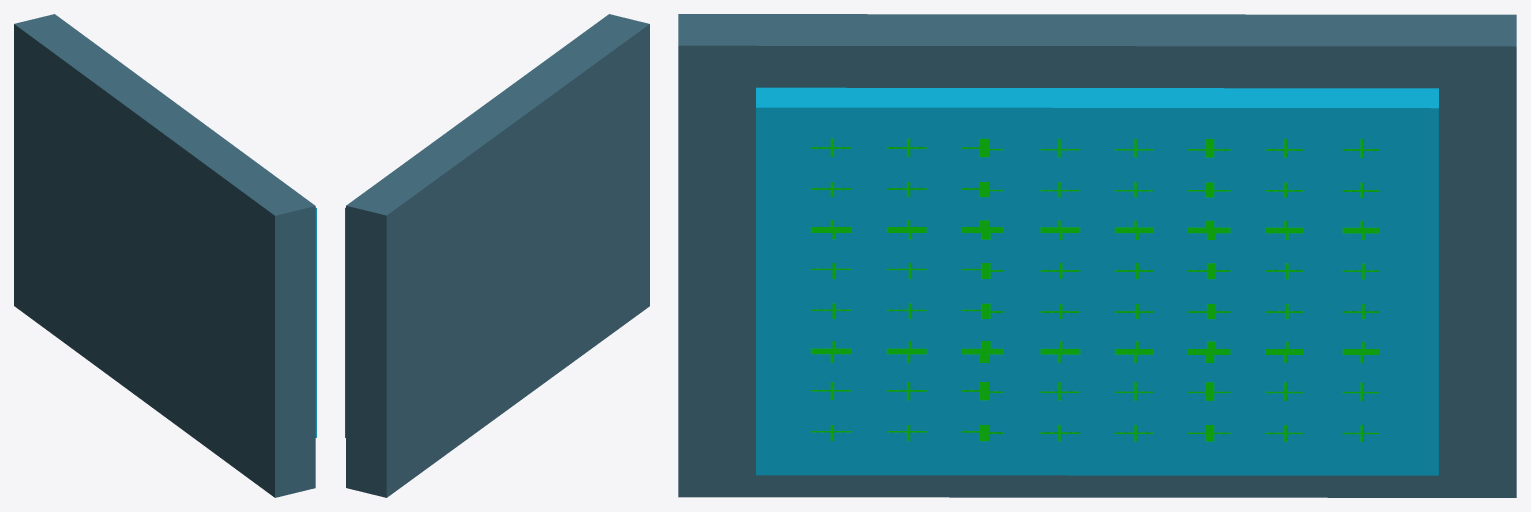
File: pokeTele.obj
3 renders of one model, left to right at view 1: azimuth 30°, elevation 25°; view 2: azimuth 150°, elevation 25°; view 3: azimuth 270°, elevation 25°, orthographic. The views are drawn at different scales.
Visible parts, largest first — view 1: pasted__pCube20; view 2: pasted__pCube20; view 3: pasted__pCube20.
Part boxes in pixels (bbox=[...]): pasted__pCube20: bbox=[14, 14, 316, 497]; pasted__pCube20: bbox=[345, 14, 649, 497]; pasted__pCube20: bbox=[678, 14, 1516, 497].
Size of the model in its own units: 0.6811 by 2.74 by 4.62.
Materials: 2 (2 with a texture image).
